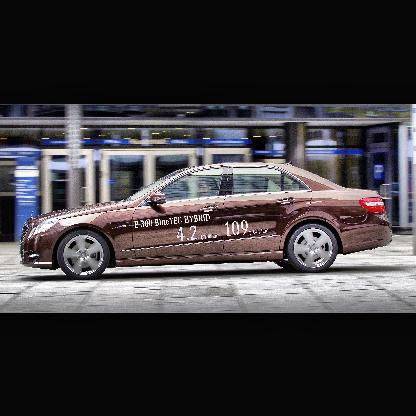Mercedes-Benz E-Class Sedan 2012: (20, 162, 393, 281)
